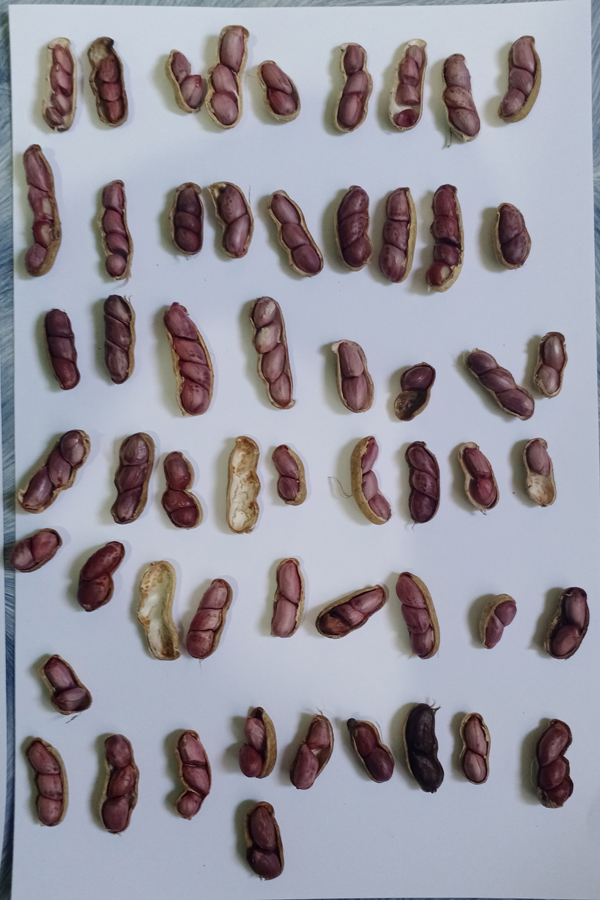Empty: (132, 555, 186, 667), (221, 432, 262, 541)
Four: (10, 145, 68, 281), (159, 296, 221, 418), (243, 294, 299, 413), (422, 178, 469, 296), (387, 34, 431, 144), (34, 34, 81, 135), (94, 176, 135, 286)
One: (517, 434, 563, 512), (389, 358, 441, 422)
Three: (13, 426, 91, 516), (462, 344, 540, 427), (530, 709, 581, 822), (94, 732, 148, 837), (18, 732, 75, 831), (394, 564, 446, 671), (168, 726, 225, 822), (105, 428, 158, 531), (205, 18, 253, 130), (343, 431, 395, 530), (316, 586, 390, 652), (271, 187, 323, 280), (498, 26, 544, 130), (93, 291, 139, 391), (87, 32, 132, 134), (36, 307, 85, 394), (189, 580, 235, 672), (441, 49, 484, 146), (399, 437, 445, 527), (336, 37, 376, 137), (330, 186, 376, 272), (377, 182, 414, 286), (159, 448, 204, 530), (171, 177, 205, 250)
Two: (400, 698, 455, 805), (205, 173, 257, 267), (237, 798, 294, 882), (349, 714, 404, 796), (544, 582, 596, 667), (327, 335, 378, 420), (286, 711, 340, 791), (35, 653, 99, 718), (453, 436, 504, 514), (266, 553, 309, 643), (77, 536, 123, 620), (236, 699, 280, 786), (490, 204, 543, 273), (458, 707, 500, 791), (255, 57, 305, 123), (472, 594, 523, 657), (163, 45, 208, 112), (535, 325, 572, 405), (10, 527, 63, 578), (271, 439, 309, 509)
